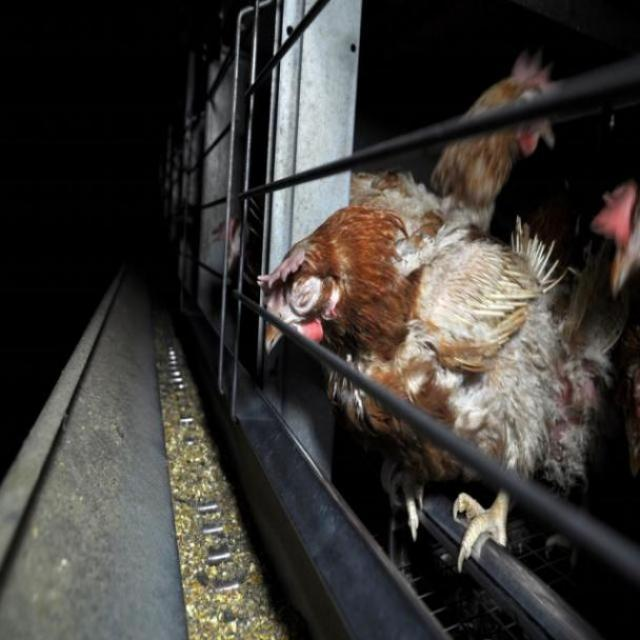Chicken: (266, 155, 603, 574), (345, 53, 565, 242)
